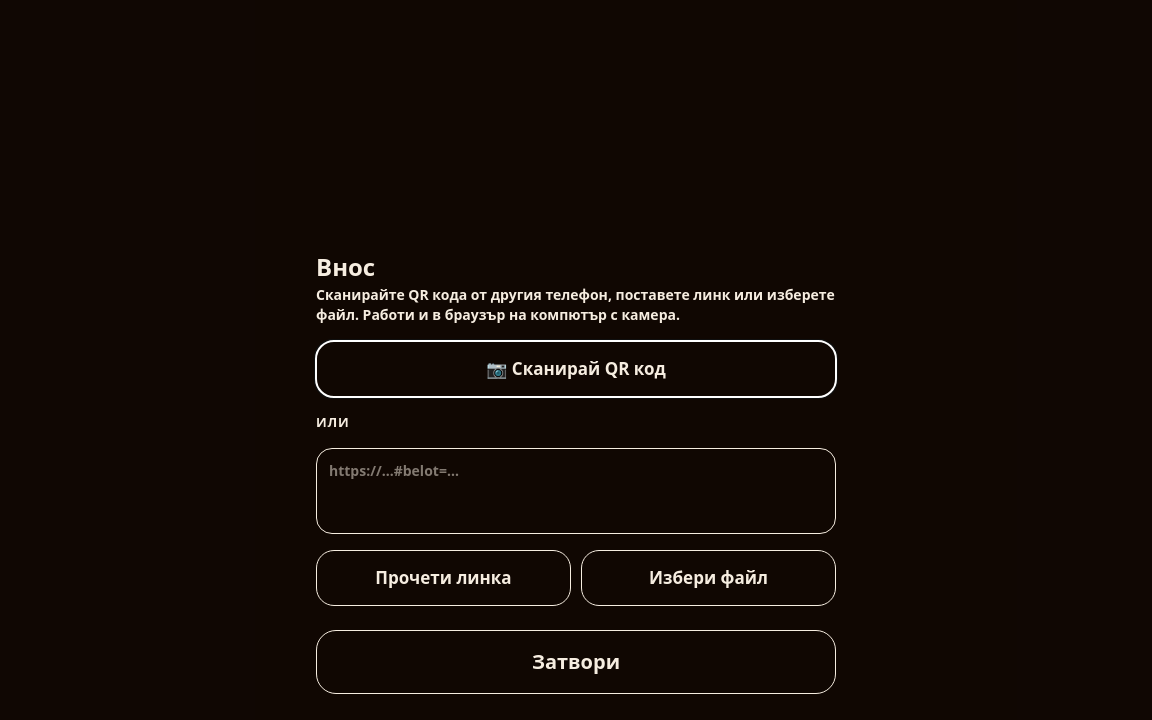
ImportSheet › reading › shows "no code" for text with no code
The width and height of the screenshot is (1152, 720).
Type "not a code" into the text box named "Линк или код" at [576, 491], box [316,448,836,534]
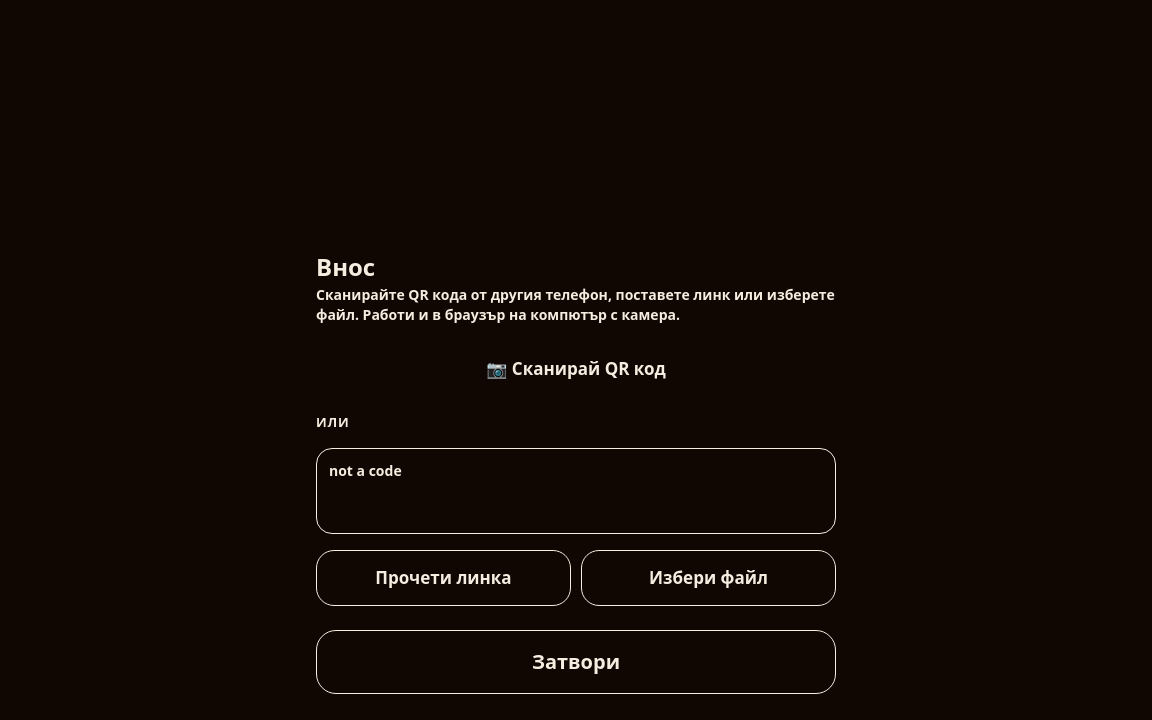
Click the button "Прочети линка" at [444, 578], box [316,550,571,606]
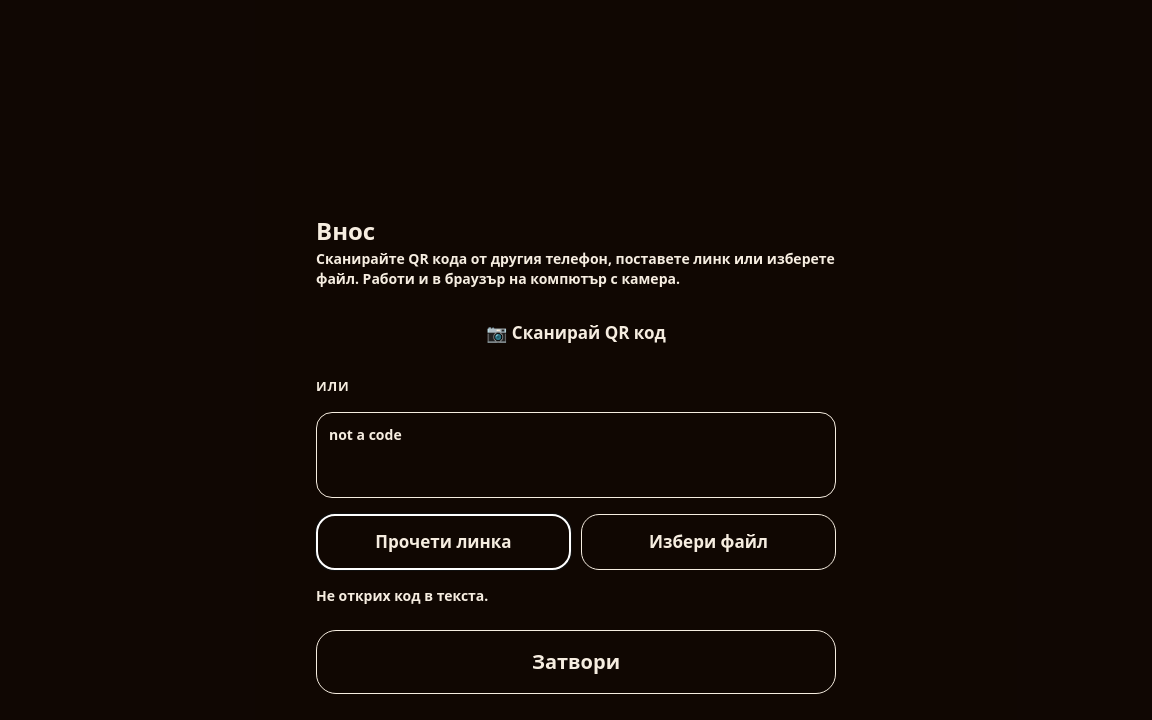
Check: the text "Не открих код в текста." is shown, box [316,586,488,605]
